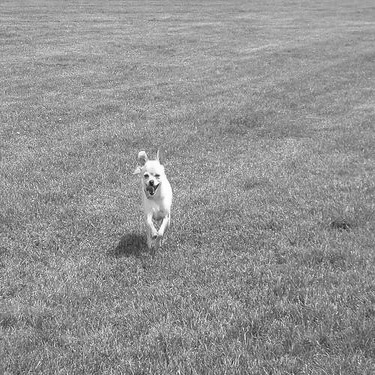dog: (120, 139, 175, 255)
